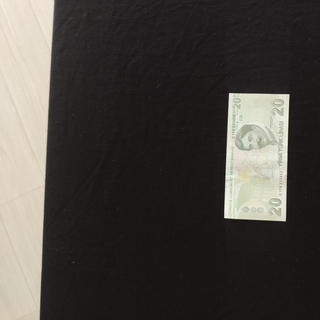20TLBack: (223, 92, 290, 222)
